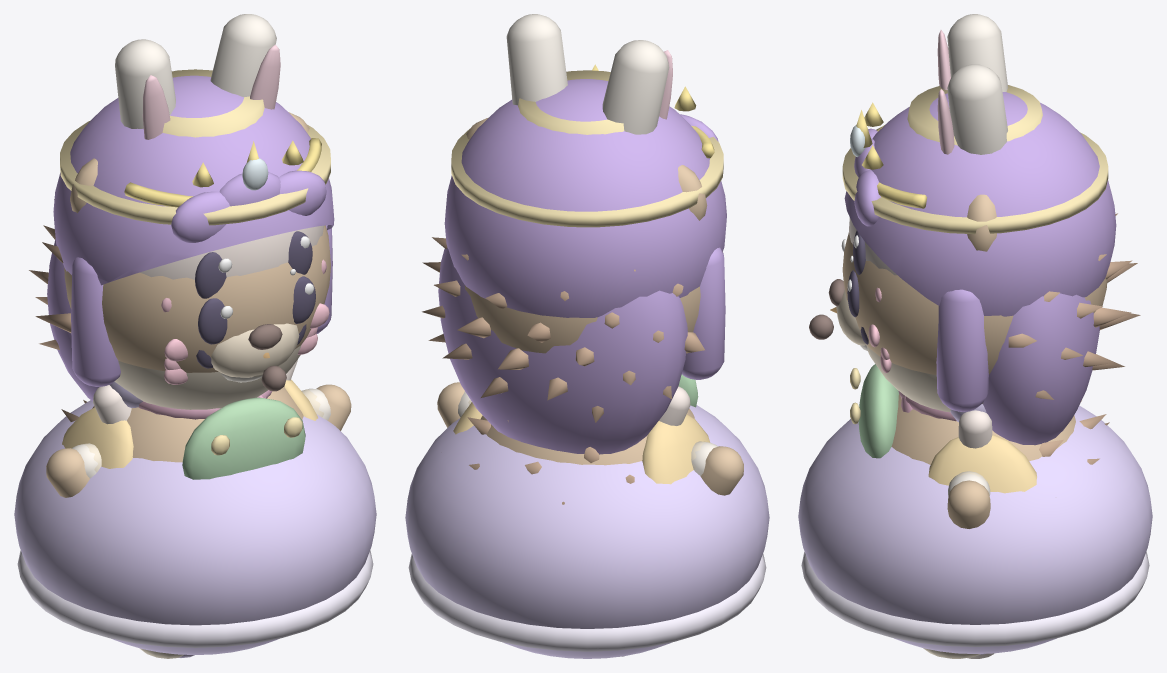
File: friends.glb
The picture shows the model from 3 angles, left to right: view 1: azimuth 30°, elevation 25°; view 2: azimuth 150°, elevation 25°; view 3: azimuth 270°, elevation 25°; orthographic projection. The views are drawn at different scales.
Parts seen in each view (by area): view 1: flora, gogo, tori, dochi, pippi; view 2: flora, gogo, tori, dochi, pippi; view 3: flora, gogo, tori, dochi, pippi.
Part boxes in pixels (<box>): flora: <box>14,75,376,657</box>; gogo: <box>46,69,351,497</box>; tori: <box>72,14,330,478</box>; dochi: <box>29,199,324,658</box>; pippi: <box>62,352,317,468</box>; flora: <box>405,64,769,658</box>; gogo: <box>437,70,743,495</box>; tori: <box>458,14,717,475</box>; dochi: <box>422,237,709,504</box>; pippi: <box>453,402,710,484</box>; flora: <box>798,92,1152,658</box>; gogo: <box>828,85,1108,528</box>; tori: <box>860,14,1008,496</box>; dochi: <box>809,213,1140,658</box>; pippi: <box>830,307,1036,493</box>.
Size of the model in its own units: 1.12 by 2.08 by 1.12.
